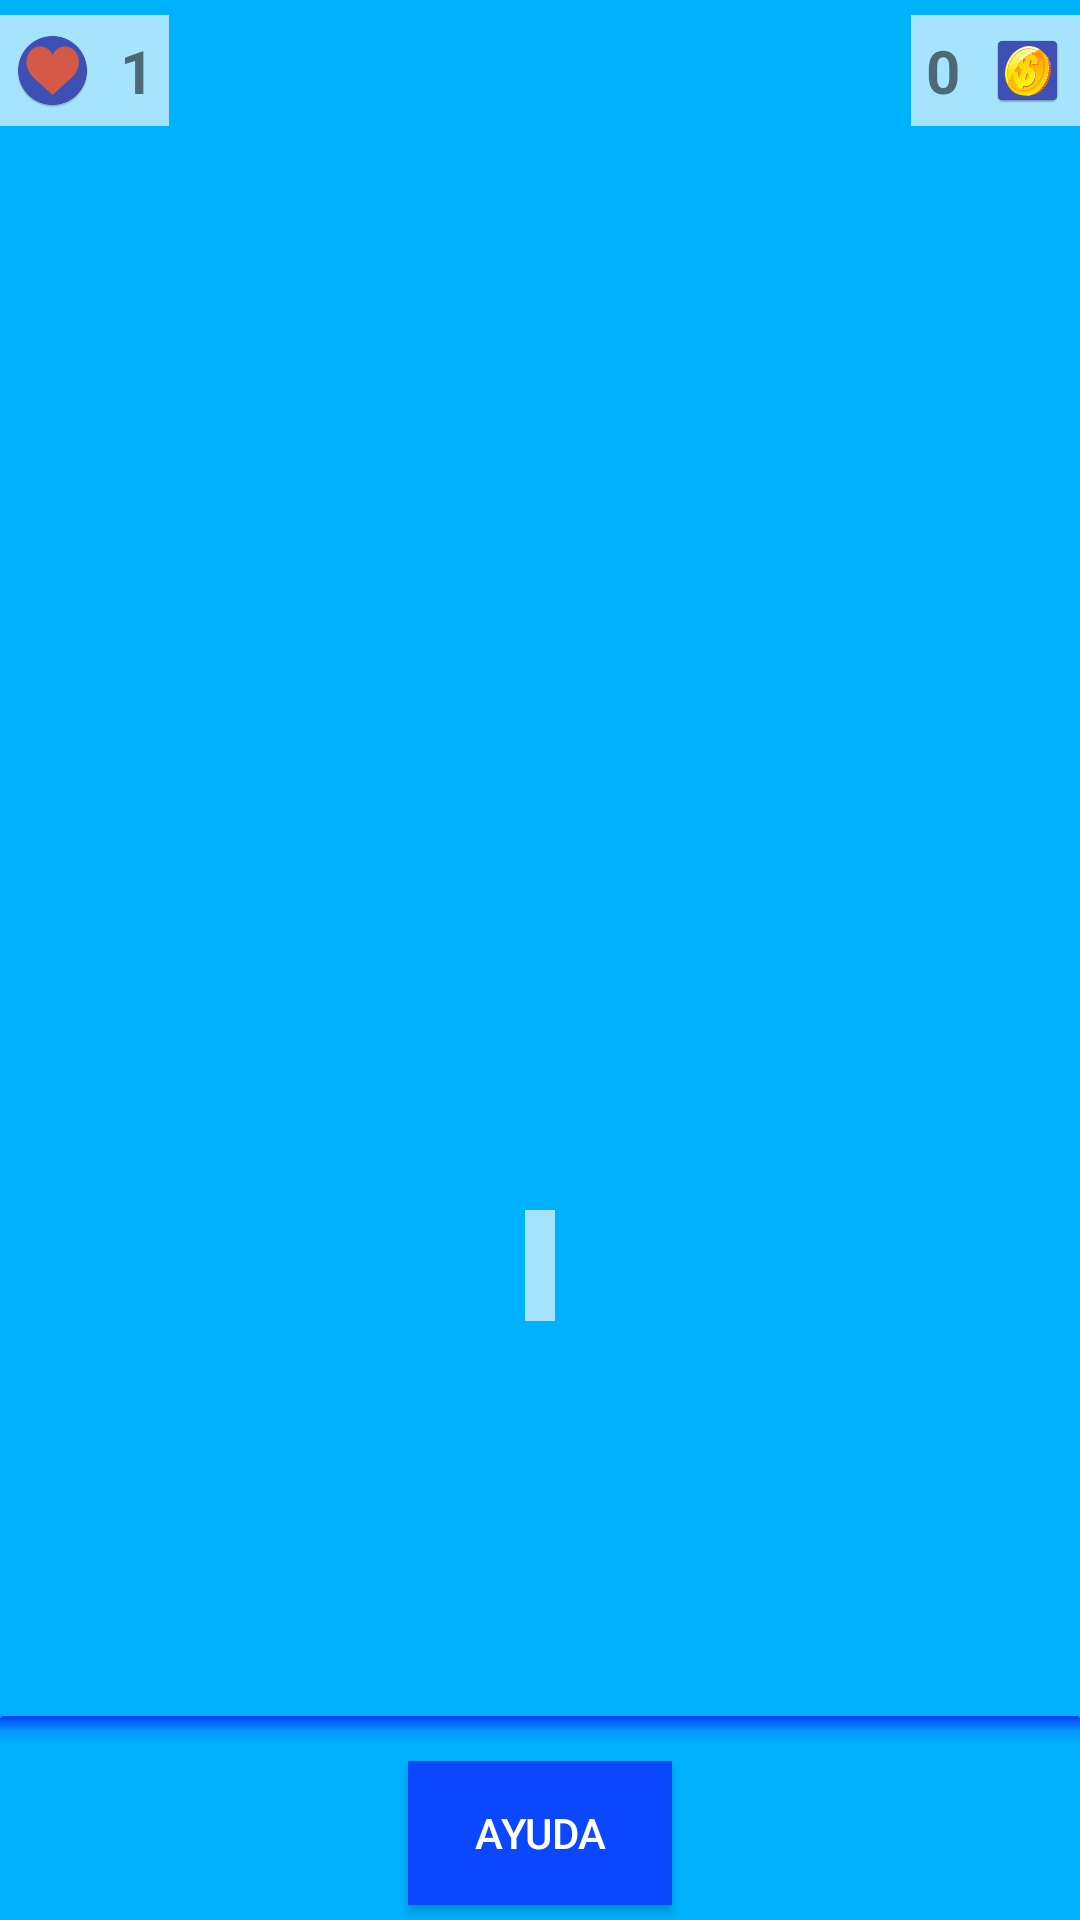

Icons on this 1080 × 1920 Android screen, each with its box as [x1=x1, y1=y1, x2=x2, y2=y2]:
heart round: [x1=18, y1=36, x2=87, y2=107]
